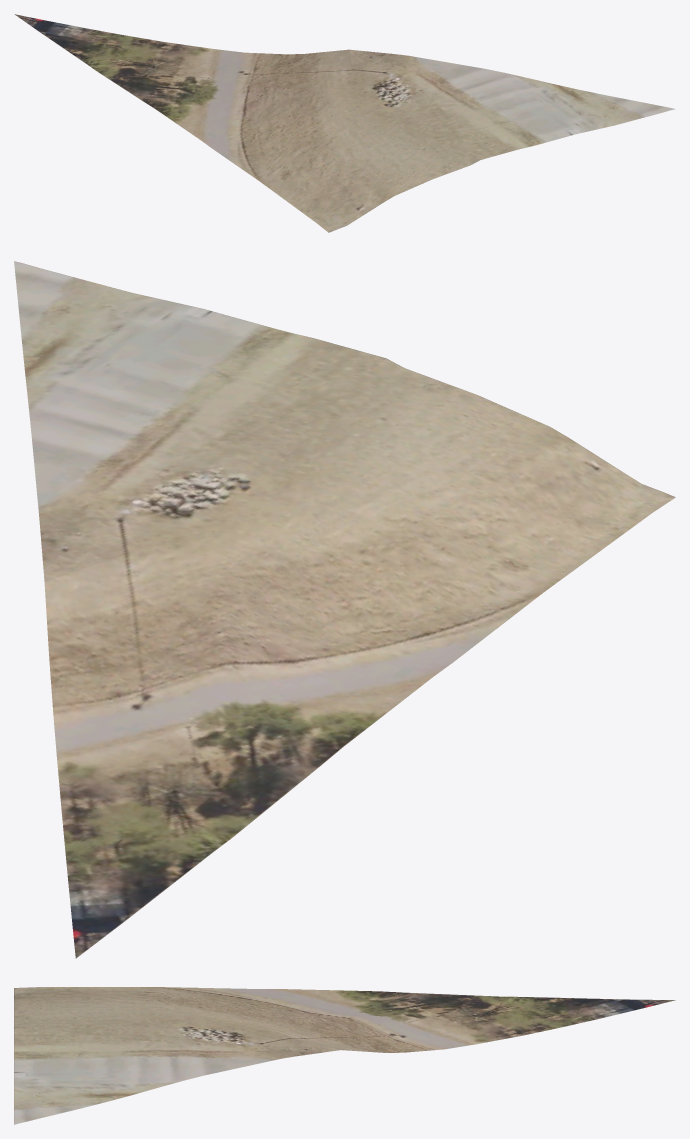
Rendered from CM_Terrain_24492711_6818565.fbx.
3 renders of one model, top to bottom at view 1: azimuth 30°, elevation 25°; view 2: azimuth 150°, elevation 25°; view 3: azimuth 270°, elevation 25°, orthographic. The views are drawn at different scales.
Visible parts, largest first — view 1: CM_Terrain_24492711_6818565_LOD0; view 2: CM_Terrain_24492711_6818565_LOD0; view 3: CM_Terrain_24492711_6818565_LOD0.
Part boxes in pixels (<box>): CM_Terrain_24492711_6818565_LOD0: <box>14,14,675,232</box>; CM_Terrain_24492711_6818565_LOD0: <box>14,261,675,958</box>; CM_Terrain_24492711_6818565_LOD0: <box>14,987,675,1124</box>.
Size of what is drawn, in the model's own units: 52.03 by 7.28 by 81.71.
